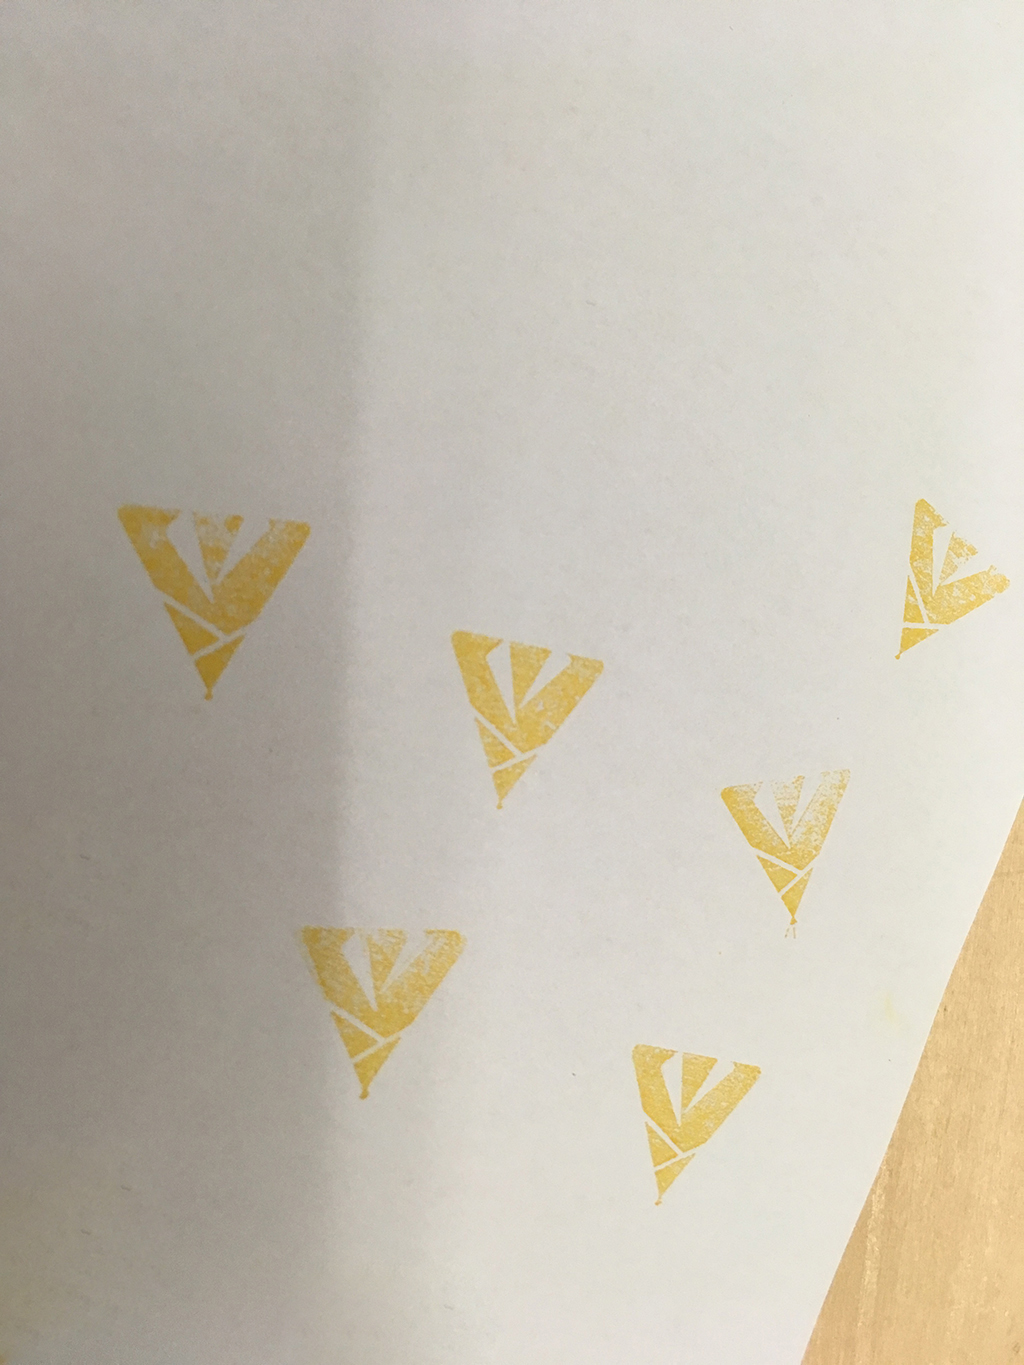tent: (94, 494, 310, 716), (289, 921, 475, 1115), (441, 624, 616, 828), (710, 759, 861, 940), (617, 1033, 767, 1208), (895, 488, 1012, 674)
